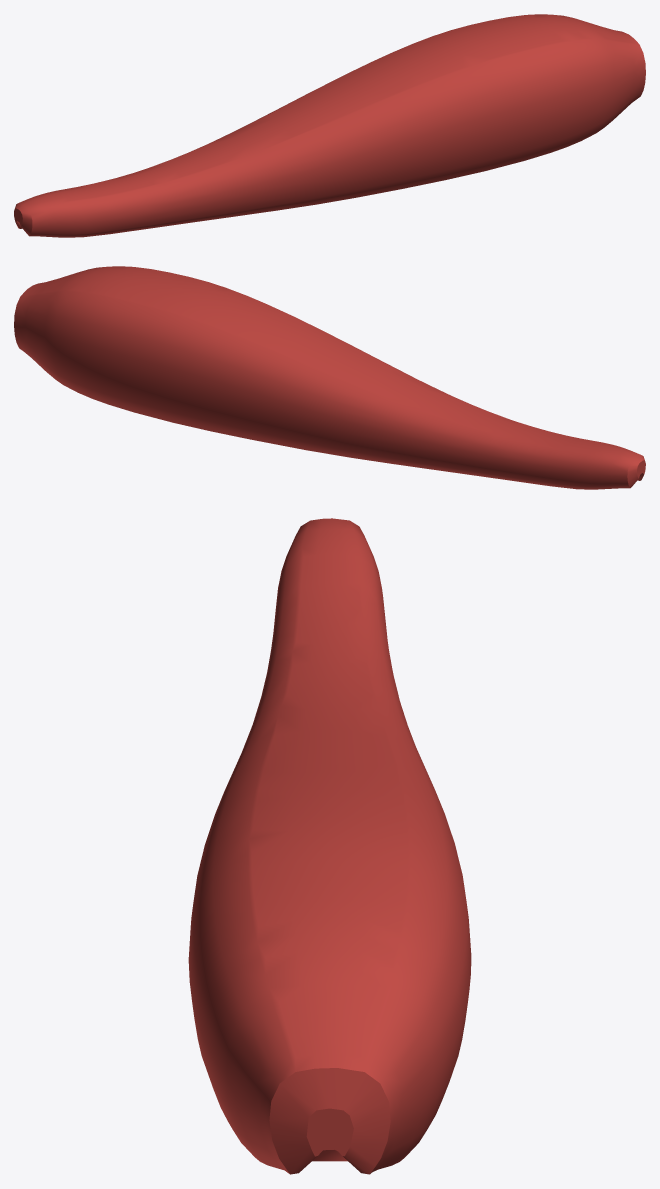
Rendered from chopper_4_lod2.glb.
3 views of the same model, one above another, from view 1: azimuth 30°, elevation 25°; view 2: azimuth 150°, elevation 25°; view 3: azimuth 270°, elevation 25° (orthographic). The views are drawn at different scales.
Parts seen in each view (by area): view 1: chopper_4_lod2; view 2: chopper_4_lod2; view 3: chopper_4_lod2.
Part boxes in pixels (x1=…): chopper_4_lod2: x1=14, y1=14, x2=645, y2=237; chopper_4_lod2: x1=14, y1=266, x2=645, y2=489; chopper_4_lod2: x1=188, y1=518, x2=471, y2=1174.
Bounding box in the file's own units: 1.06 × 0.1845 × 0.211.
